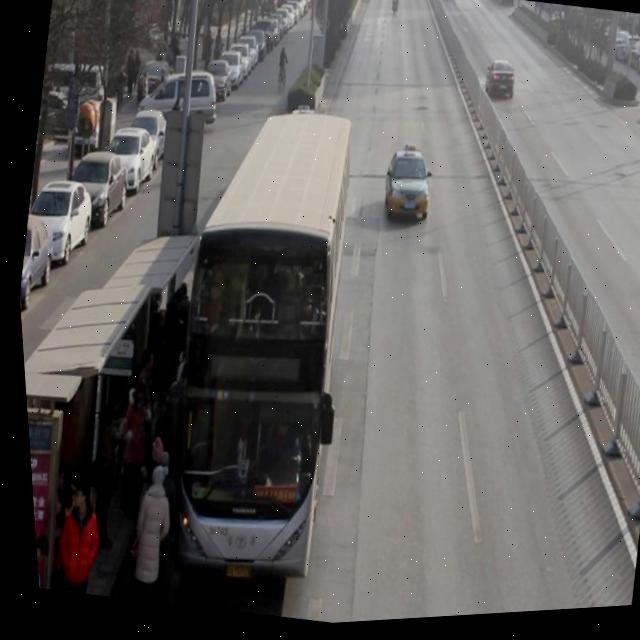car: (372, 144, 440, 237), (478, 62, 520, 112)
van: (129, 101, 380, 586)
